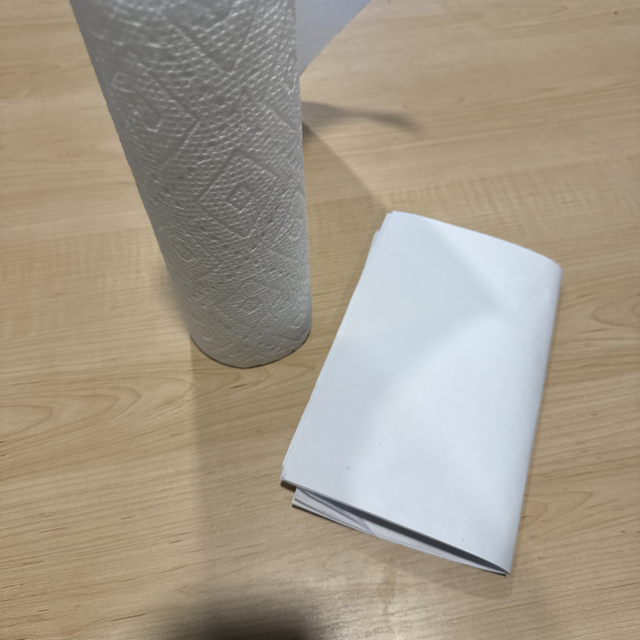Paper Towel: (63, 0, 340, 368)
